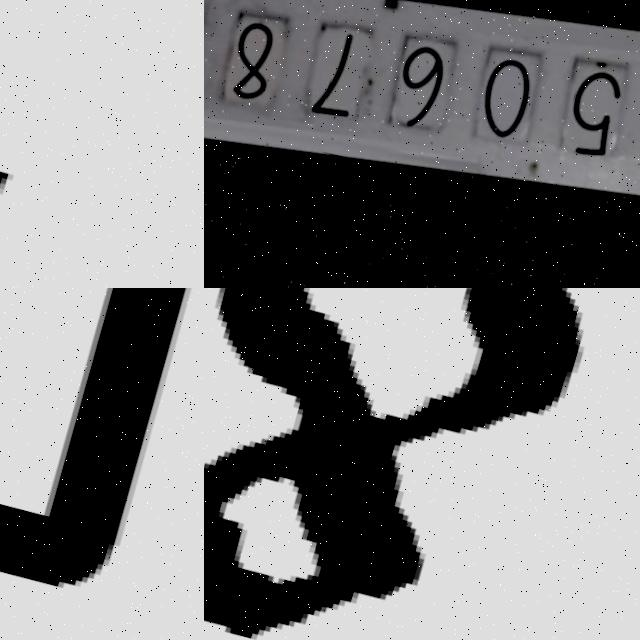0: (454, 44, 560, 165)
2: (0, 0, 204, 288)
4: (204, 5, 219, 107)
5: (541, 56, 640, 184)
6: (369, 30, 476, 155)
7: (287, 17, 390, 142)
8: (204, 288, 640, 640), (208, 7, 307, 123)
C: (0, 288, 204, 623)
